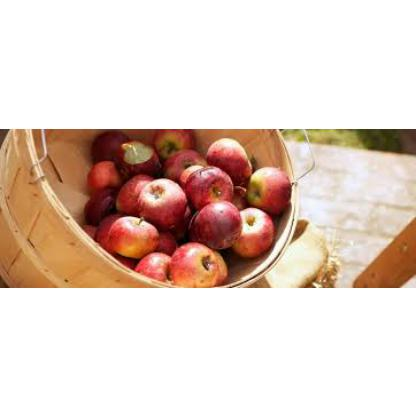apple: (168, 236, 218, 286), (138, 181, 186, 223), (235, 206, 277, 254), (187, 167, 235, 207), (246, 167, 290, 209), (196, 202, 238, 244), (107, 216, 152, 252), (118, 136, 158, 170), (118, 175, 154, 211), (204, 137, 247, 165), (135, 252, 167, 280), (91, 160, 117, 186)
